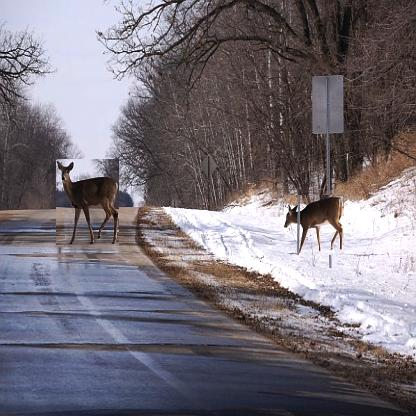Deer: (56, 159, 119, 245), (284, 195, 344, 255)
